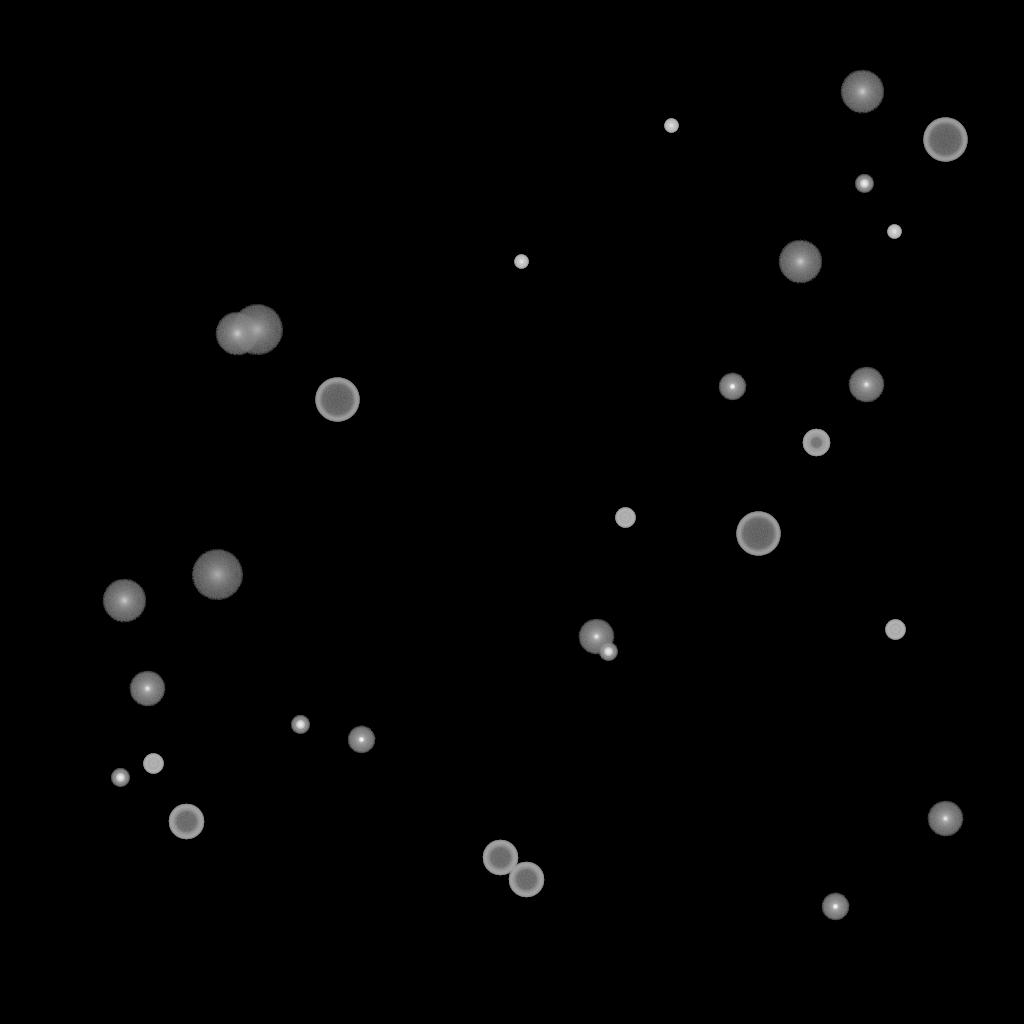depth:-10: (347, 726, 375, 754), (821, 893, 849, 921), (718, 373, 746, 401)
depth:-20: (855, 175, 873, 193), (111, 769, 129, 787), (599, 643, 617, 661), (291, 716, 309, 734)
depth:-30: (664, 119, 678, 133), (514, 255, 528, 269), (887, 225, 901, 239)
depth:-40: (143, 754, 163, 774), (885, 620, 905, 640), (615, 508, 635, 528)
depth:-50: (802, 429, 830, 457)
depth:-60: (508, 862, 544, 898), (168, 804, 204, 840), (482, 840, 518, 876)
depth:-70: (923, 118, 967, 162), (736, 512, 780, 556), (315, 378, 359, 422)
depth:0: (129, 671, 165, 707), (578, 619, 614, 655), (927, 801, 963, 837), (848, 367, 884, 403)
depth:10: (778, 240, 822, 284), (215, 312, 259, 356), (102, 579, 146, 623), (840, 70, 884, 114)
depth:20: (231, 305, 283, 355), (191, 550, 243, 600)
